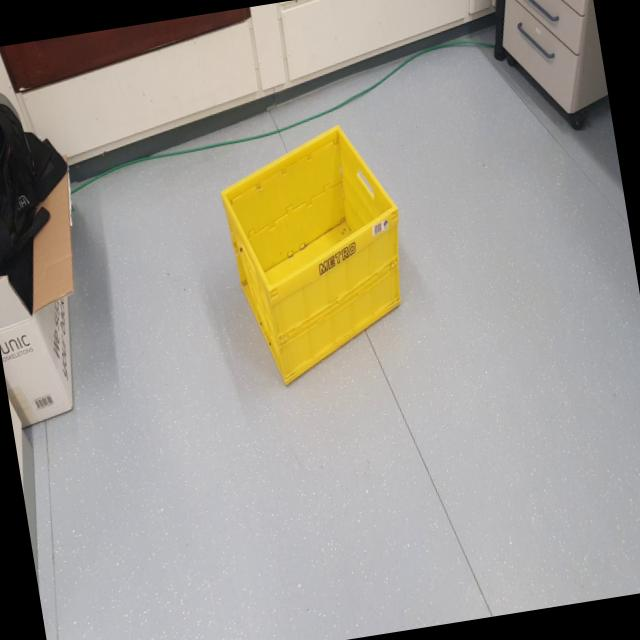box: (210, 112, 431, 420)
